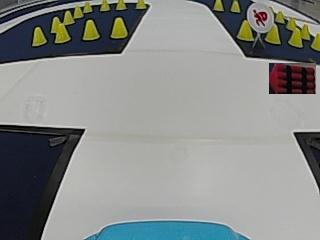thief: (247, 1, 274, 32)
